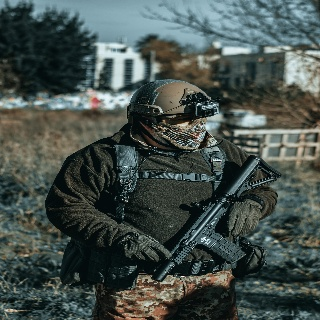rifle: (149, 151, 282, 287)
